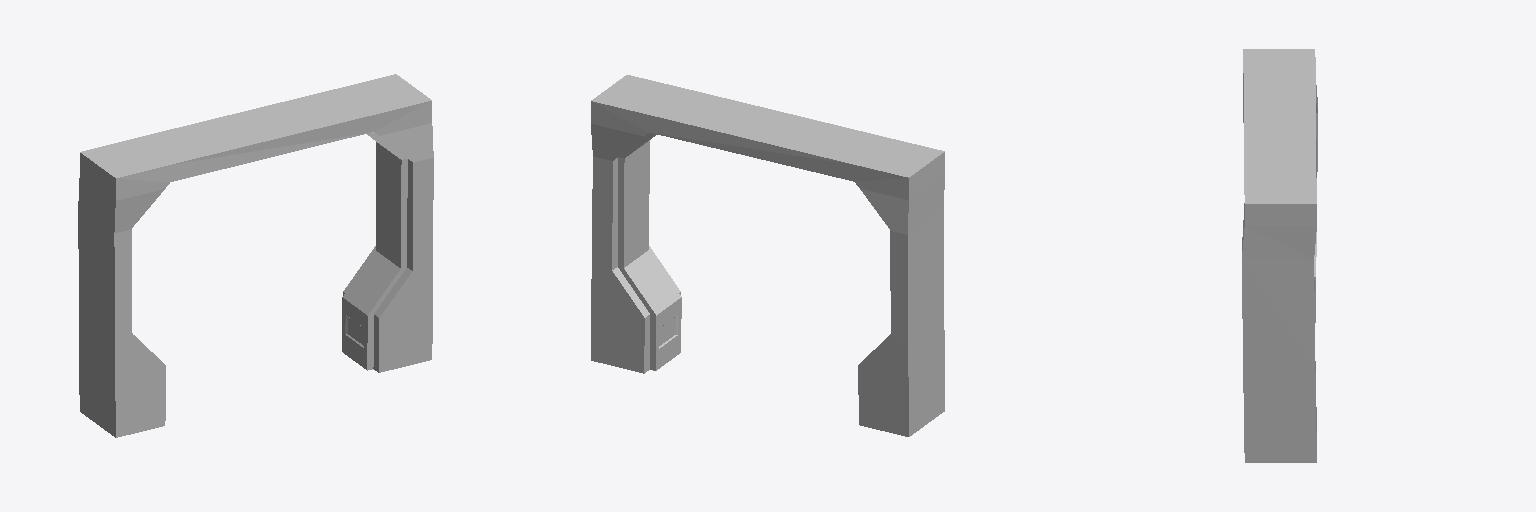
Rendered from interior_pillar.obj.
The picture shows the model from 3 angles: view 1: azimuth 30°, elevation 25°; view 2: azimuth 150°, elevation 25°; view 3: azimuth 270°, elevation 25°; orthographic projection.
Parts seen in each view (by area): view 1: Plane.005_Plane.017; view 2: Plane.005_Plane.017; view 3: Plane.005_Plane.017.
Part boxes in pixels (x1,y1,x2,y2): Plane.005_Plane.017: (78, 74, 433, 437); Plane.005_Plane.017: (591, 75, 944, 436); Plane.005_Plane.017: (1242, 49, 1317, 462).
Bounding box in the file's own units: 5.12 × 4 × 1.07.